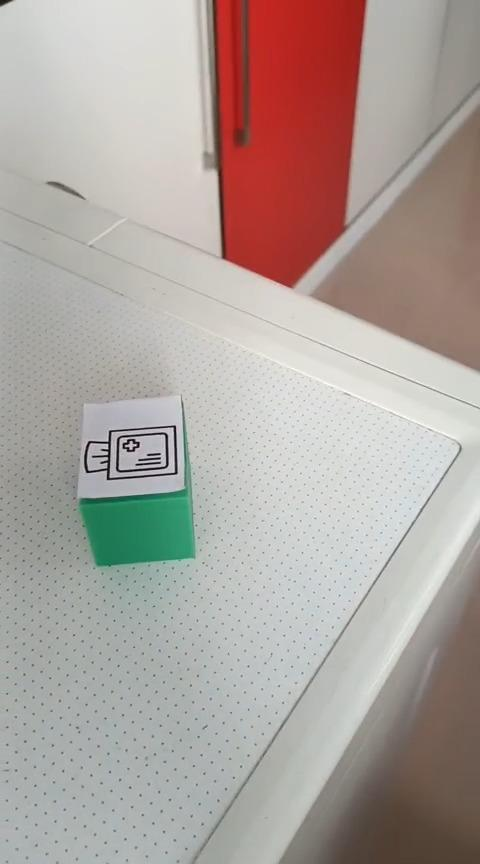Gauze: (75, 393, 196, 567)
